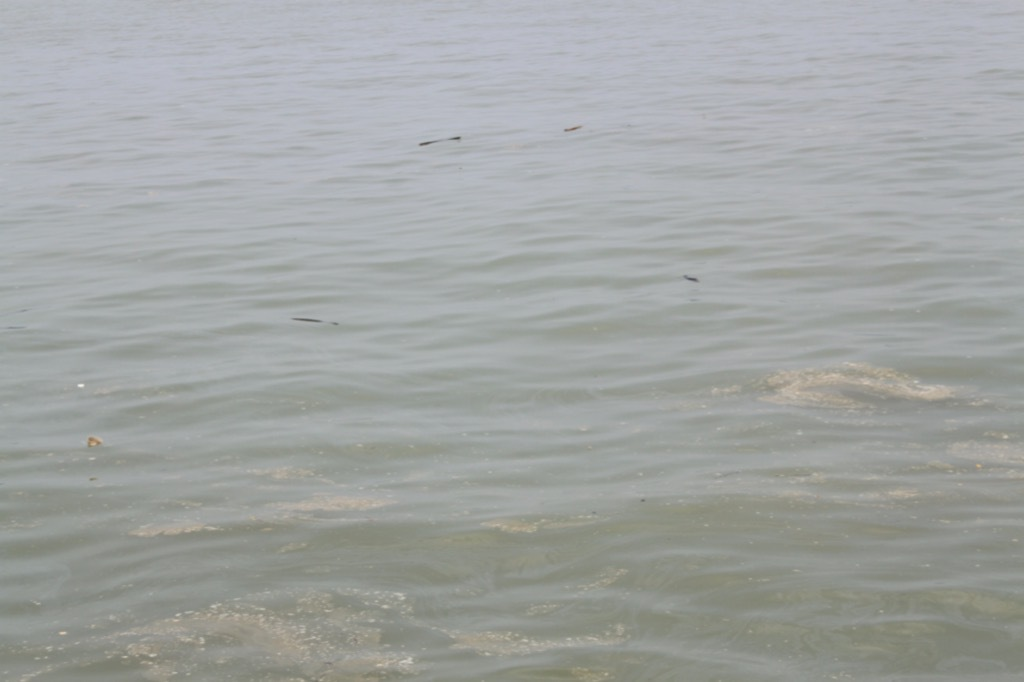organic: (280, 303, 356, 339), (399, 126, 472, 152), (678, 263, 710, 306), (543, 116, 602, 139), (582, 504, 604, 526), (82, 471, 102, 487), (635, 492, 654, 508)
plastic: (82, 429, 114, 459), (62, 372, 96, 400)
